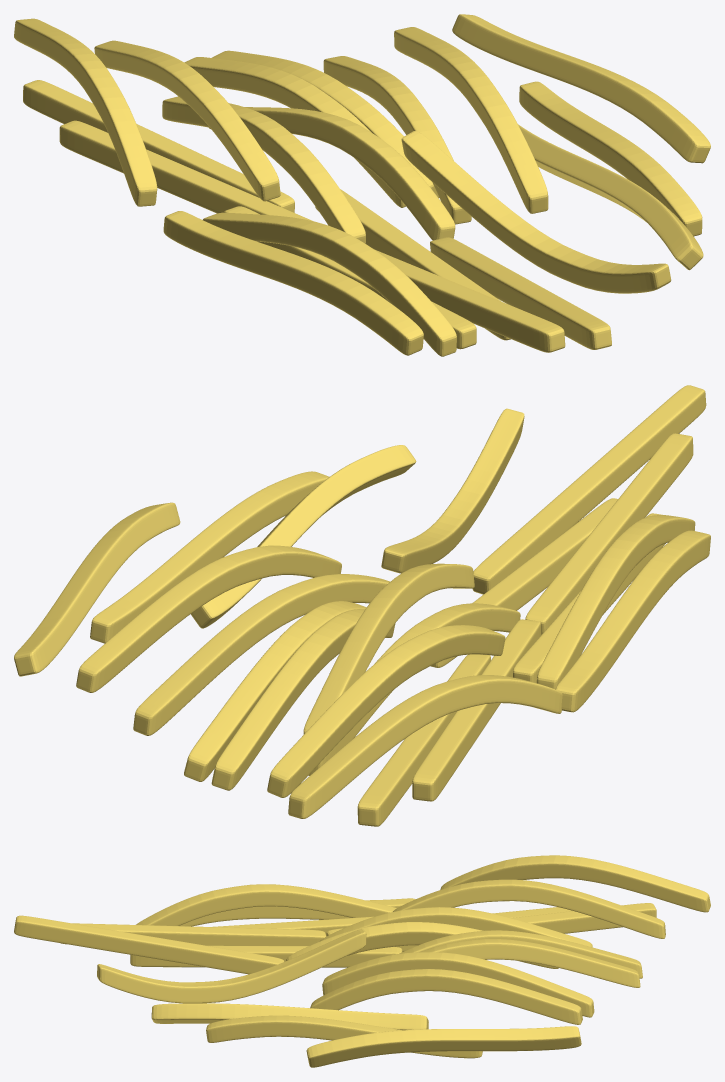
The model's file is pattis2.fbx.
3 renders of one model, top to bottom at view 1: azimuth 30°, elevation 25°; view 2: azimuth 150°, elevation 25°; view 3: azimuth 270°, elevation 25°, orthographic. The views are drawn at different scales.
Visible parts, largest first — view 1: pattisbabaağğğğ.001; view 2: pattisbabaağğğğ.001; view 3: pattisbabaağğğğ.001.
Boxes of the visible parts, x1,y1,x2,y2 form: pattisbabaağğğğ.001: (14,14,710,356); pattisbabaağğğğ.001: (14,385,710,826); pattisbabaağğğğ.001: (14,855,710,1067).
Bounding box in the file's own units: 0.1398 × 0.0255 × 0.2436.
